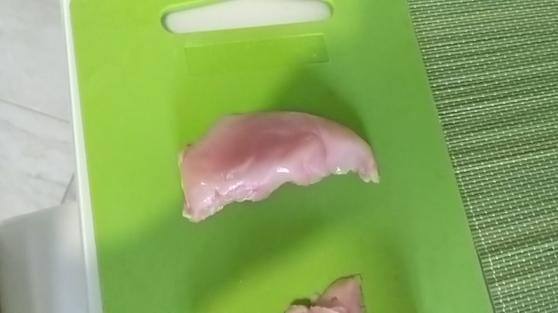chicken_fillet: (181, 109, 381, 211)
